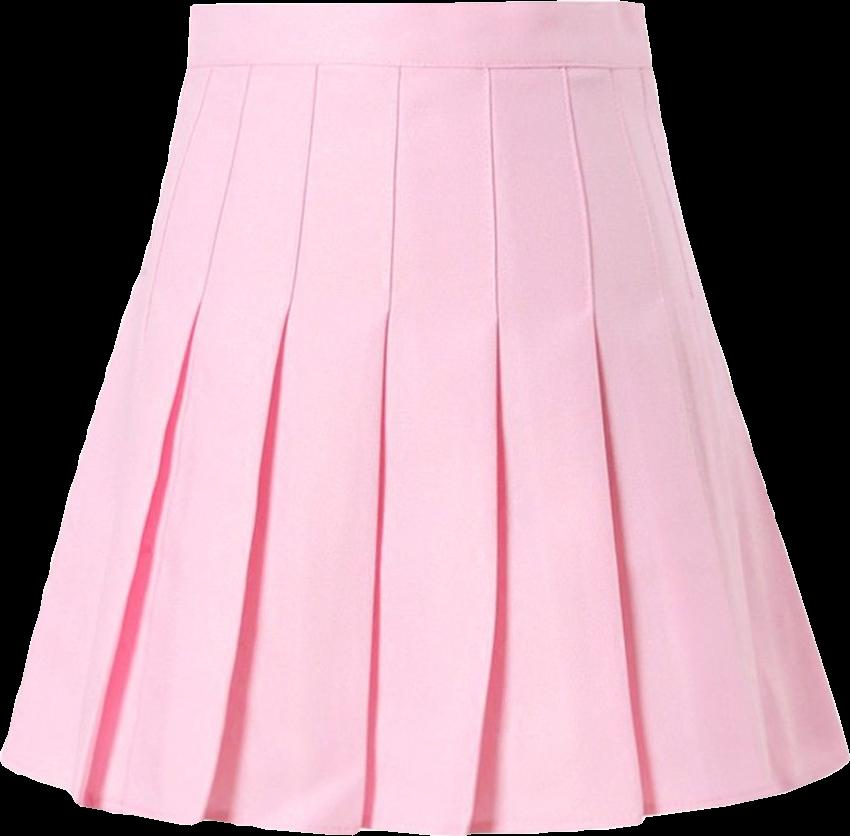Hemline: (0, 750, 849, 835)
Waistline: (183, 53, 655, 70), (186, 0, 641, 12)
